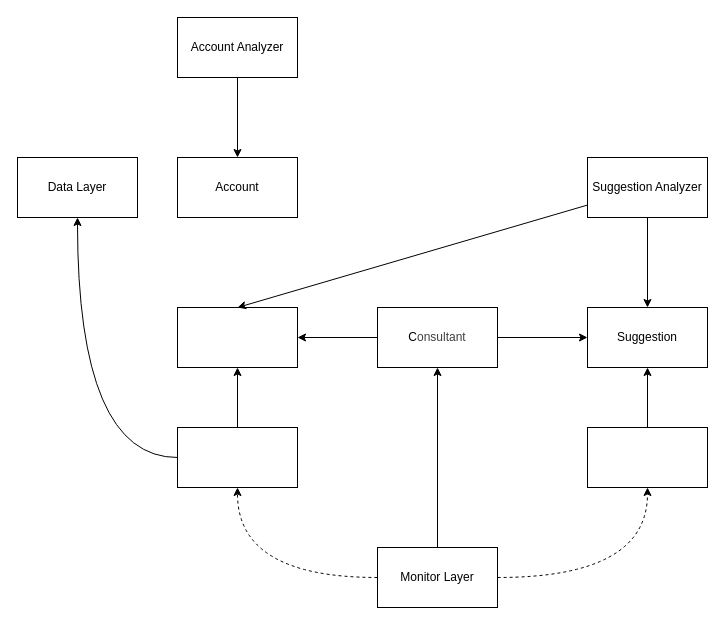
Image size: 725x625. Some labels were removed from this diagram. Each missing label, with the centre of its shape:
Account Executor: pixel 647 457
Account Tracker: pixel 237 457
Portfolio: pixel 237 337
